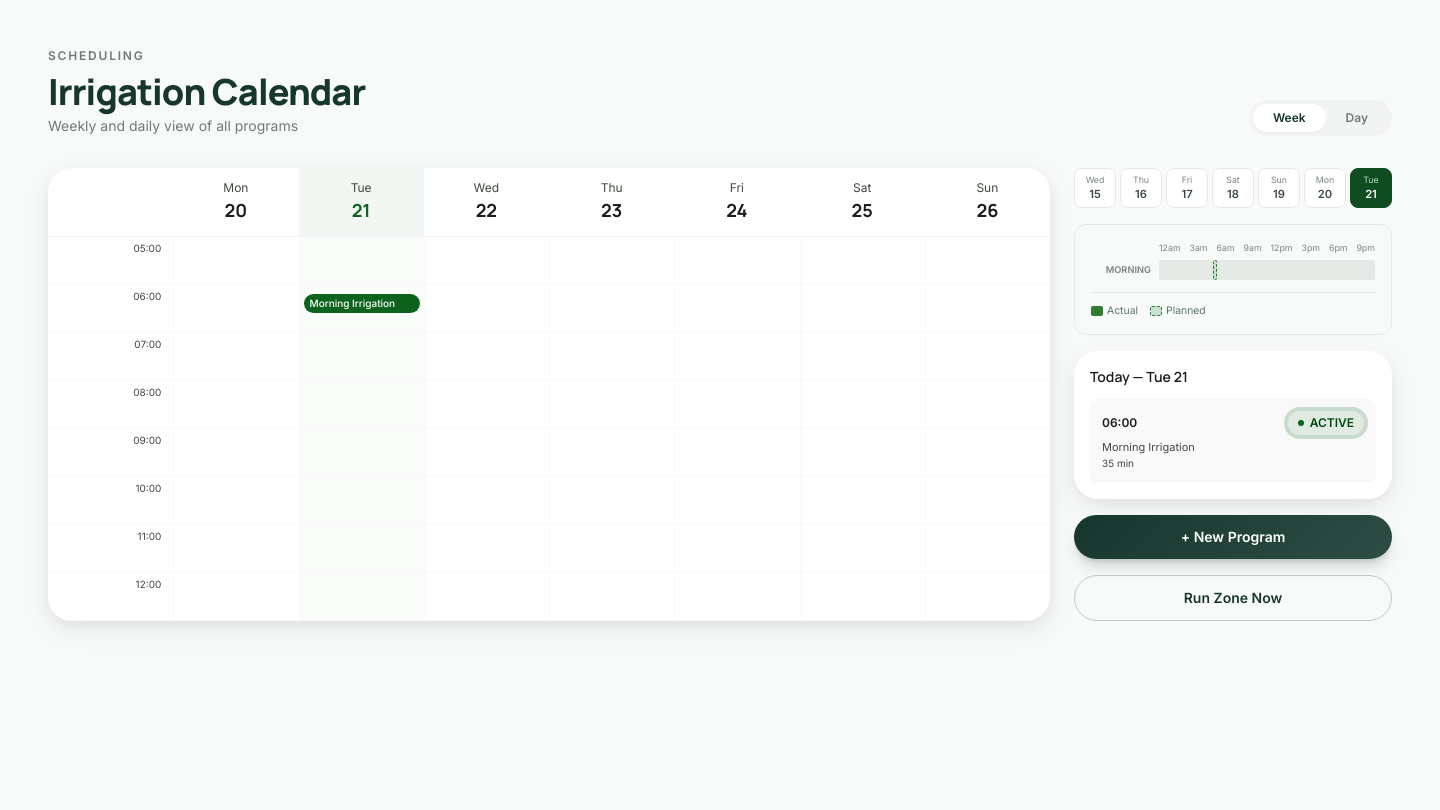
it: <Calendar /> › opens the event modal when a sidebar program is clicked
The width and height of the screenshot is (1440, 810).
Click the button "06:00 ACTIVE Morning Irrigation 35 min" at {"x": 1120, "y": 423}, box [1090,399,1376,483]
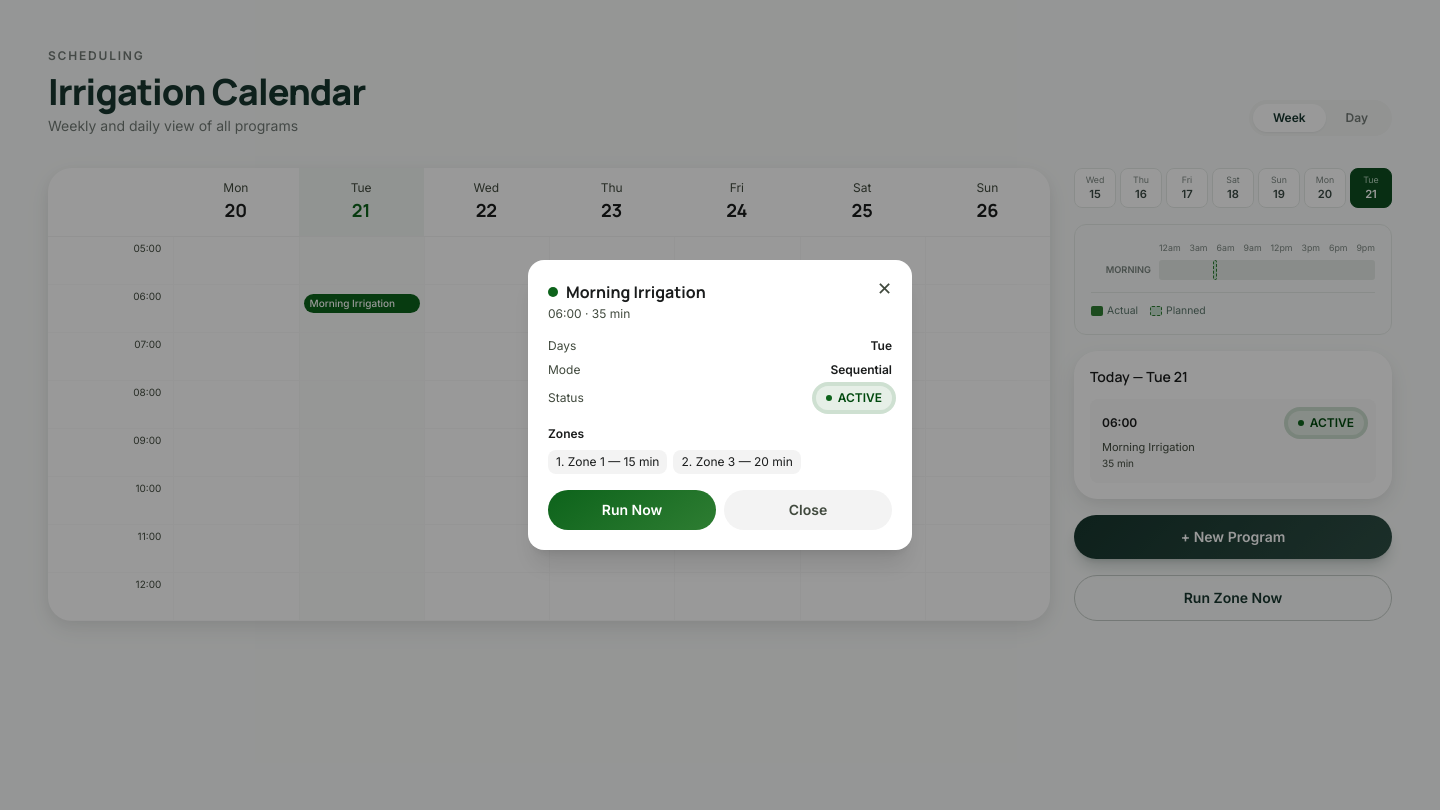
Check: the button "Run Now" is shown, box [548,490,716,530]
Check: the button "Close" is shown, box [724,490,892,530]
Check: the text "sequential" is shown, box [830,362,892,378]
